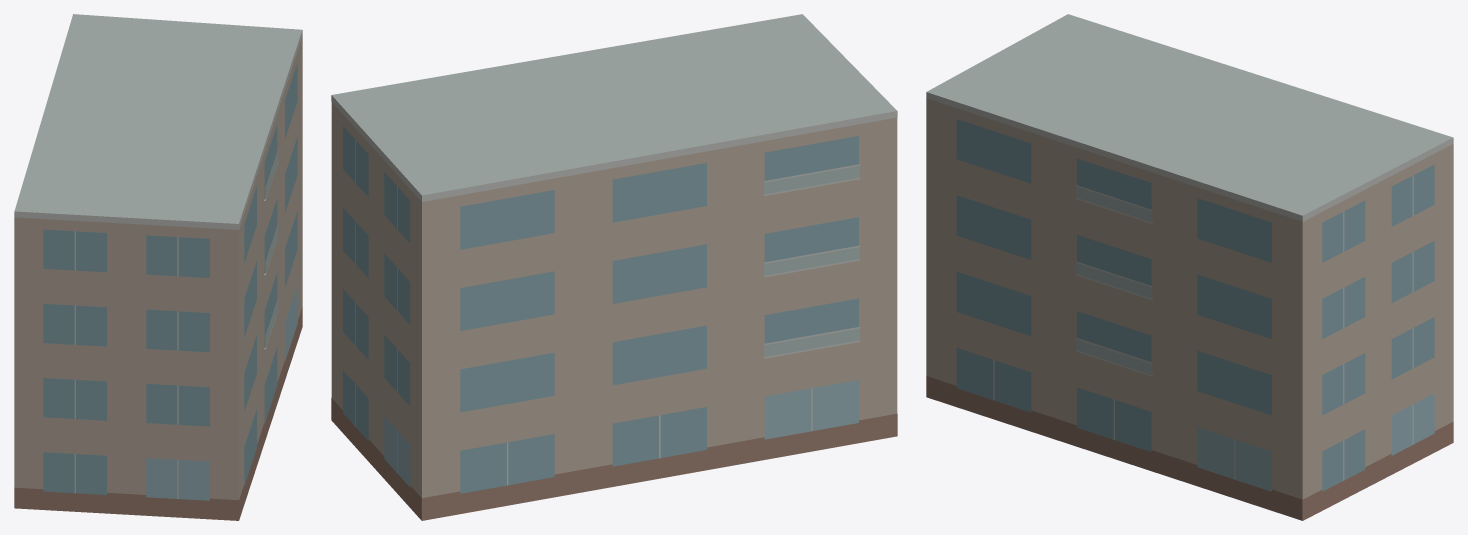
File: survey-upis-32659489.glb
3 views of the same model, side by side, from view 1: azimuth 30°, elevation 25°; view 2: azimuth 150°, elevation 25°; view 3: azimuth 270°, elevation 25° (orthographic). The views are drawn at different scales.
Visible parts, largest first — view 1: survey-upis-32659489.tmp; view 2: survey-upis-32659489.tmp; view 3: survey-upis-32659489.tmp.
Part boxes in pixels (x1,y1,x2,y2): survey-upis-32659489.tmp: [14, 14, 302, 520]; survey-upis-32659489.tmp: [331, 14, 897, 520]; survey-upis-32659489.tmp: [926, 14, 1453, 520].
Bounding box in the file's own units: 17.31 × 12.2 × 19.12.
